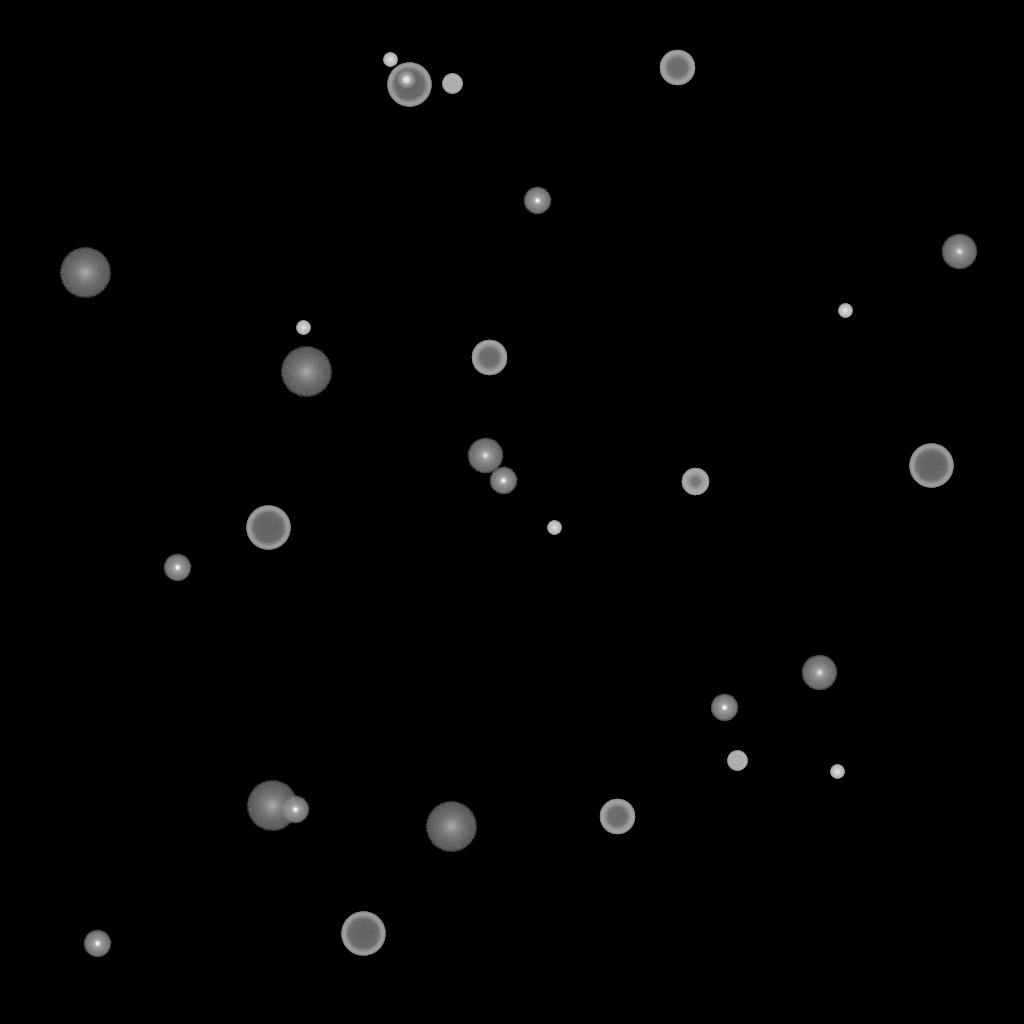depth:-10: (83, 930, 111, 958), (489, 467, 517, 495), (163, 554, 191, 582), (523, 187, 551, 215), (281, 796, 309, 824), (710, 694, 738, 722)
depth:-20: (397, 71, 415, 89)
depth:-30: (383, 53, 397, 67), (838, 304, 852, 318), (547, 521, 561, 535), (296, 321, 310, 335), (830, 765, 844, 779)
depth:-40: (727, 751, 747, 771), (442, 74, 462, 94)
depth:-50: (681, 468, 709, 496)
depth:-60: (659, 50, 695, 86), (471, 340, 507, 376), (599, 799, 635, 835)
depth:-70: (246, 506, 290, 550), (909, 444, 953, 488), (341, 912, 385, 956), (387, 63, 431, 107)
depth:0: (941, 234, 977, 270), (467, 438, 503, 474), (801, 655, 837, 691)
depth:20: (425, 802, 477, 852), (59, 248, 111, 298), (280, 347, 332, 397), (246, 781, 298, 831)
